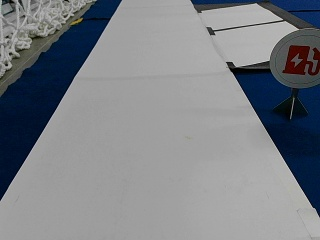battery: (270, 27, 320, 89)
